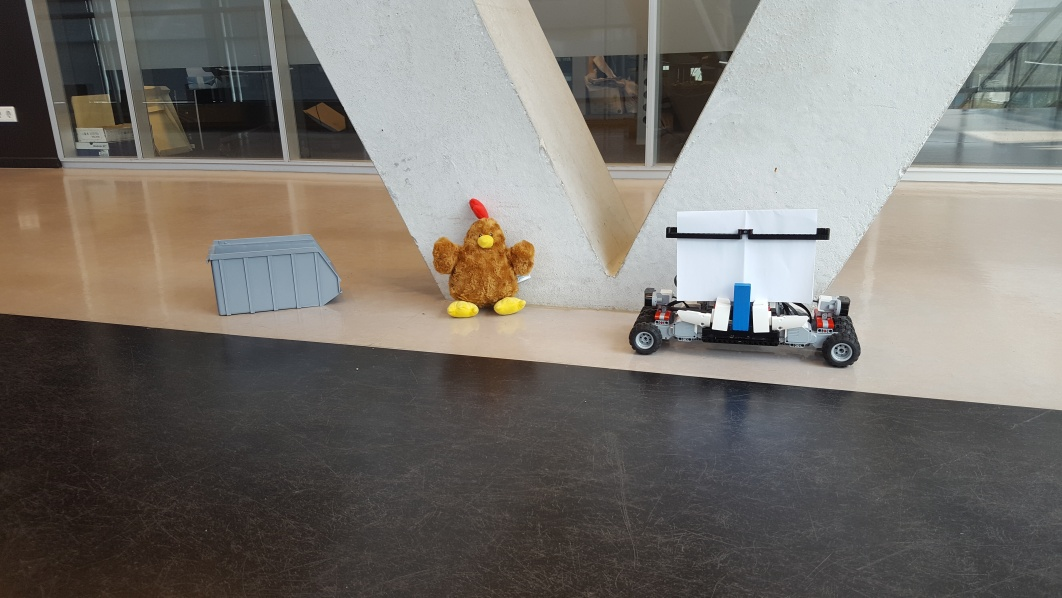beam: (731, 283, 752, 331)
chicken: (431, 198, 537, 323)
tray: (207, 232, 340, 318)
